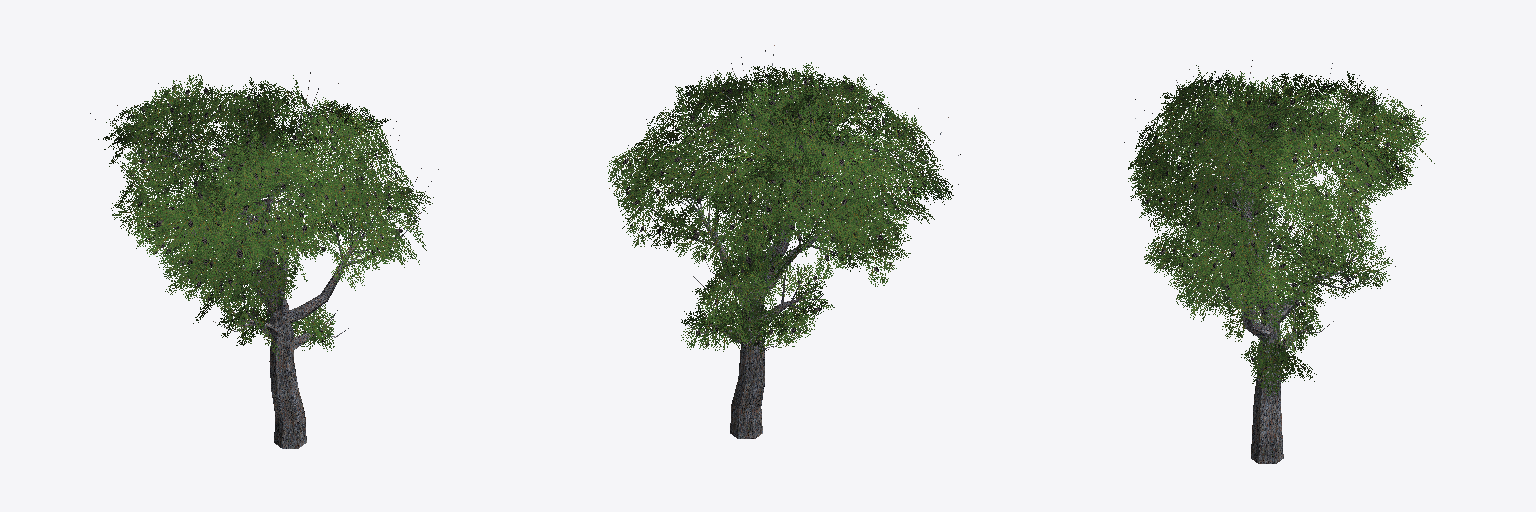
3 renders of one model, left to right at view 1: azimuth 30°, elevation 25°; view 2: azimuth 150°, elevation 25°; view 3: azimuth 270°, elevation 25°, orthographic.
Visible parts, largest first — view 1: Conifer_1_Branches, Conifer_1_Branches.001, Conifer_1_Trunk; view 2: Conifer_1_Branches, Conifer_1_Branches.001, Conifer_1_Trunk; view 3: Conifer_1_Branches, Conifer_1_Branches.001, Conifer_1_Trunk.
Boxes of the visible parts, x1,y1,x2,y2 form: Conifer_1_Branches: [98, 74, 427, 351]; Conifer_1_Branches.001: [106, 88, 433, 360]; Conifer_1_Trunk: [90, 72, 438, 448]; Conifer_1_Branches: [607, 62, 953, 357]; Conifer_1_Branches.001: [628, 67, 925, 342]; Conifer_1_Trunk: [628, 45, 960, 438]; Conifer_1_Branches: [1128, 65, 1434, 395]; Conifer_1_Branches.001: [1136, 71, 1428, 383]; Conifer_1_Trunk: [1124, 60, 1421, 463].
Bounding box in the file's own units: 0.936 × 1.01 × 0.7926.
4 materials, 3 textured.